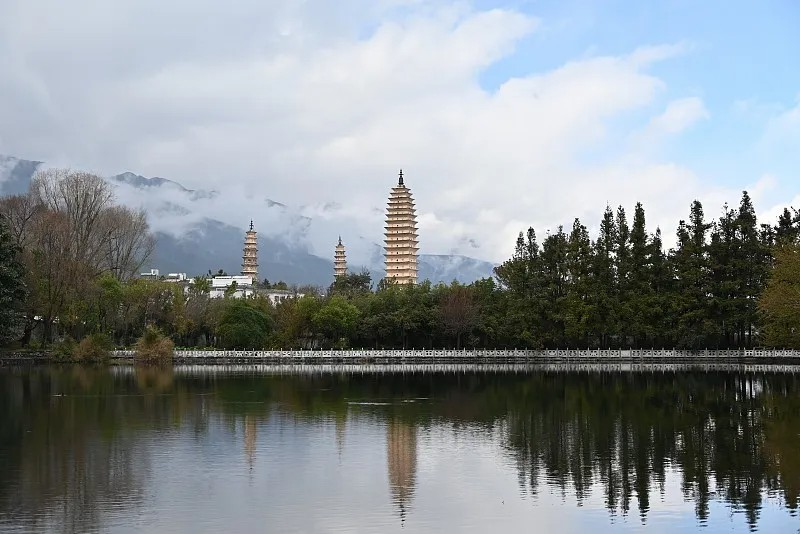ThreePagoda: (384, 169, 420, 285)
